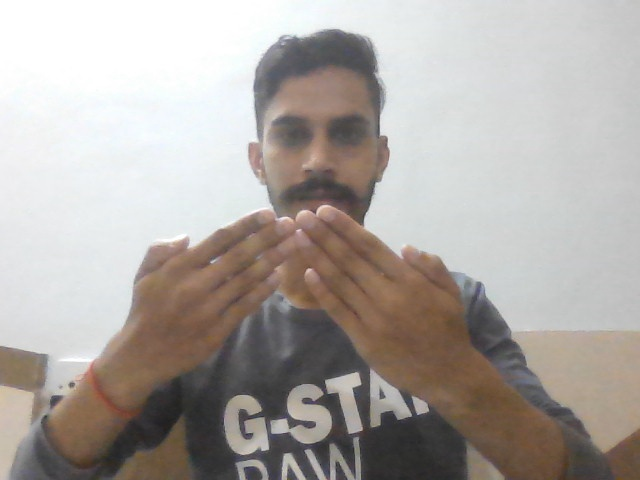ThankYou: (134, 204, 457, 375)
